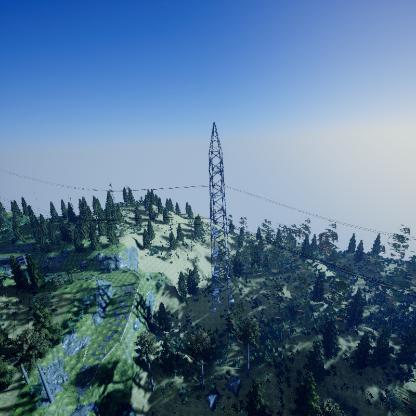tower: (204, 121, 237, 315)
